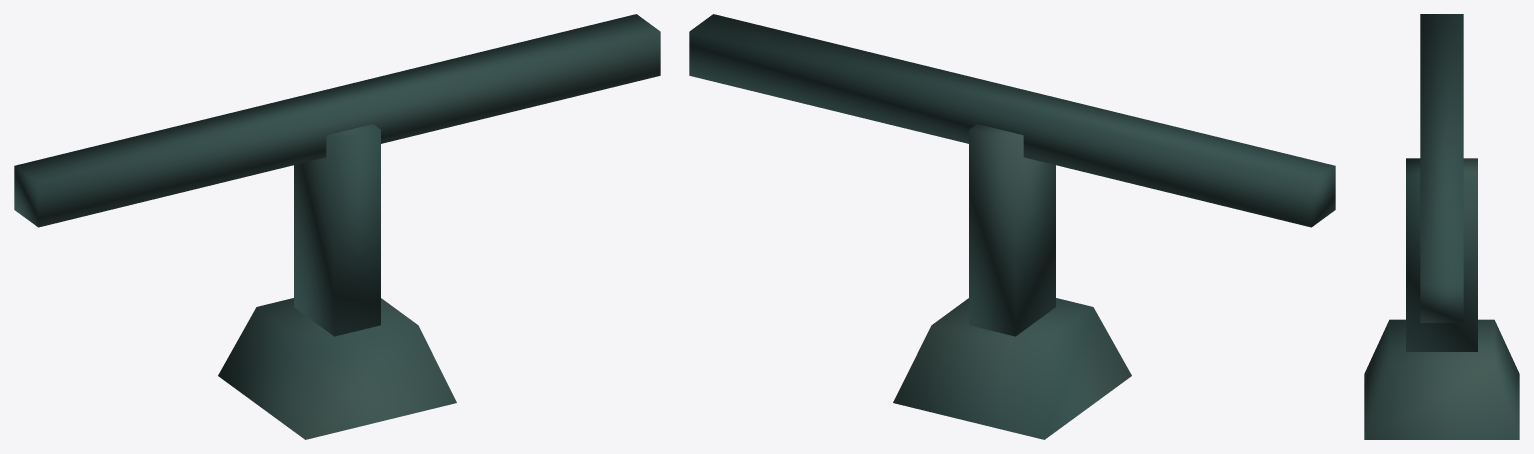
File: lamp_straight_module.glb
3 views of the same model, side by side, from view 1: azimuth 30°, elevation 25°; view 2: azimuth 150°, elevation 25°; view 3: azimuth 270°, elevation 25° (orthographic). The views are drawn at different scales.
Visible parts, largest first — view 1: Rail; view 2: Rail; view 3: Rail.
Boxes of the visible parts, x1=… form: Rail: x1=14, y1=14, x2=660, y2=439; Rail: x1=689, y1=14, x2=1335, y2=439; Rail: x1=1364, y1=14, x2=1519, y2=439.
Bounding box in the file's own units: 2.67 × 1.19 × 0.65.
